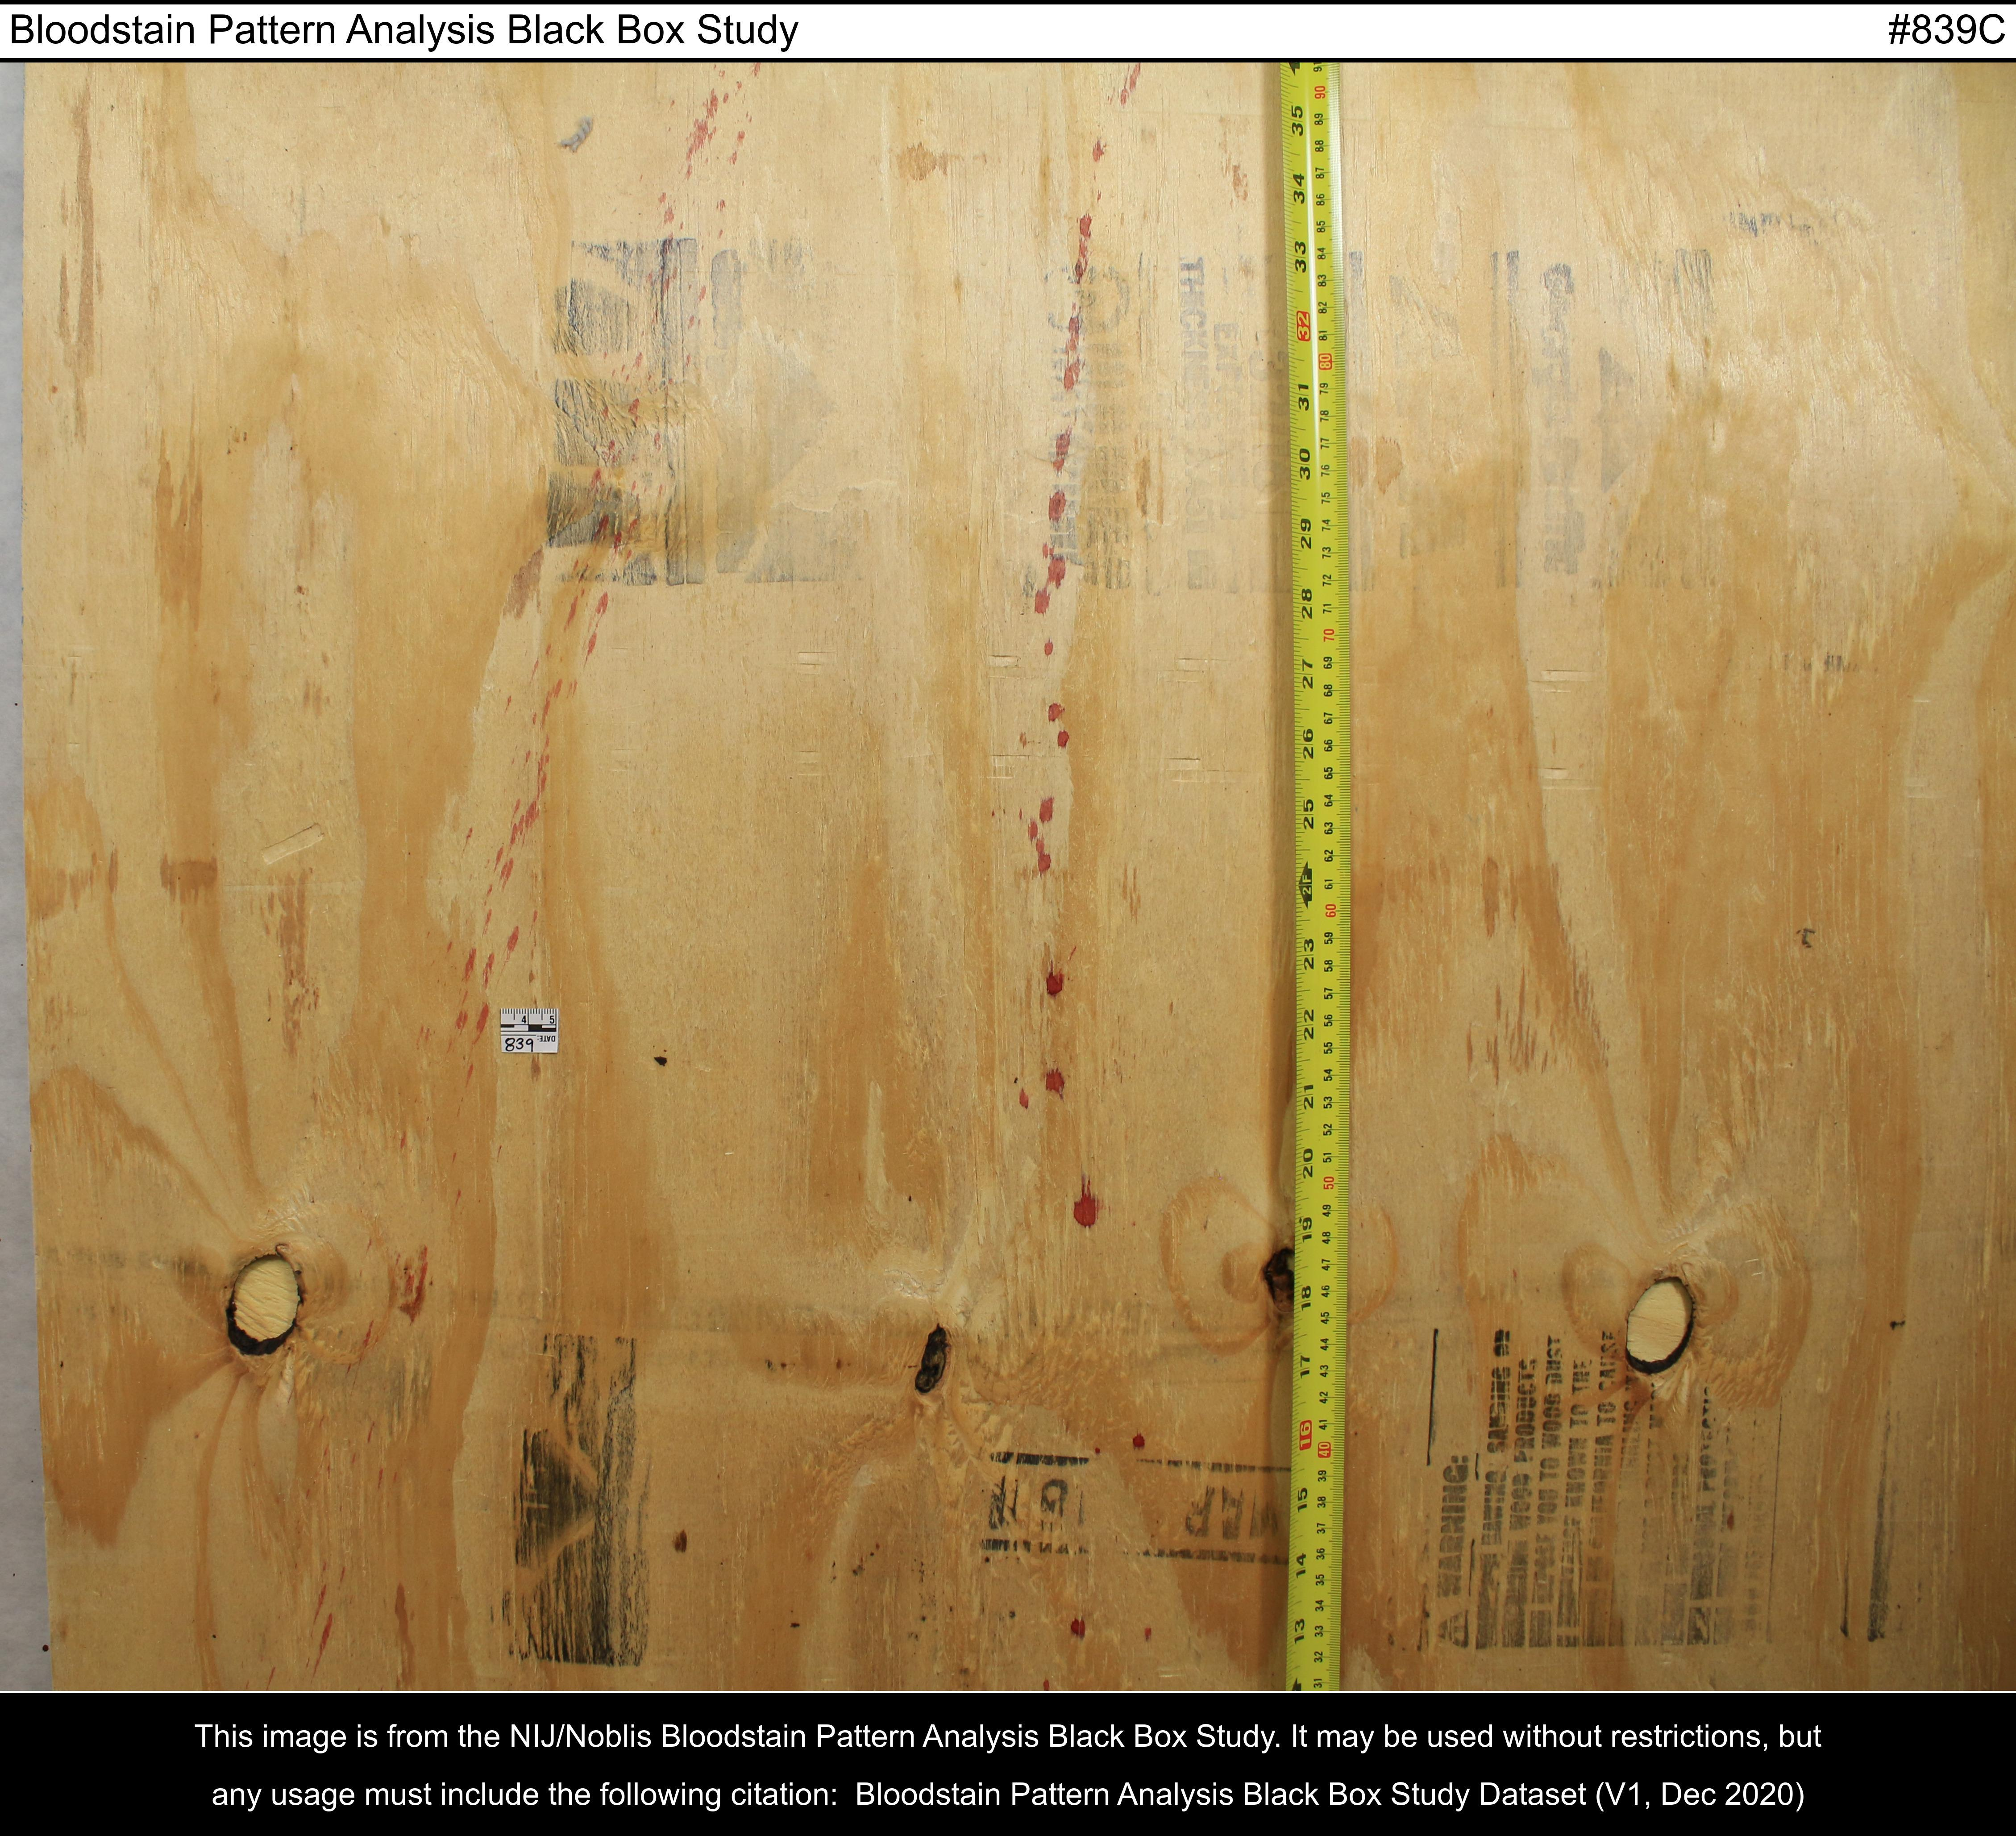Impact: (255, 70, 1263, 1681)
